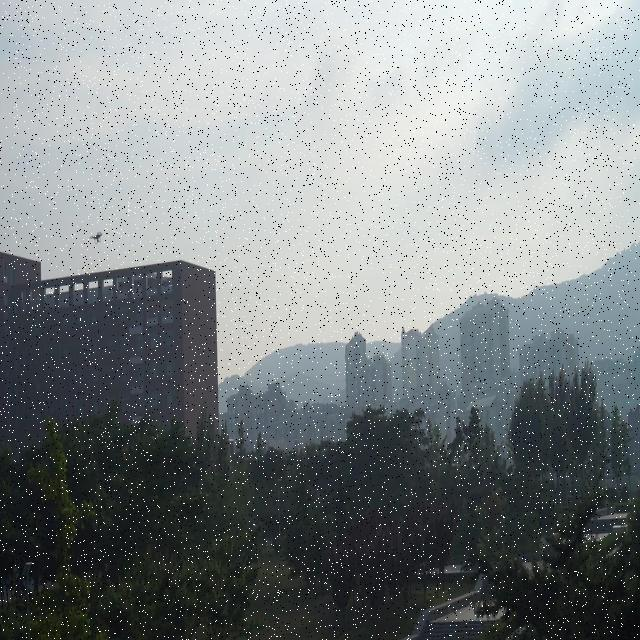UAV: (89, 231, 102, 245)
